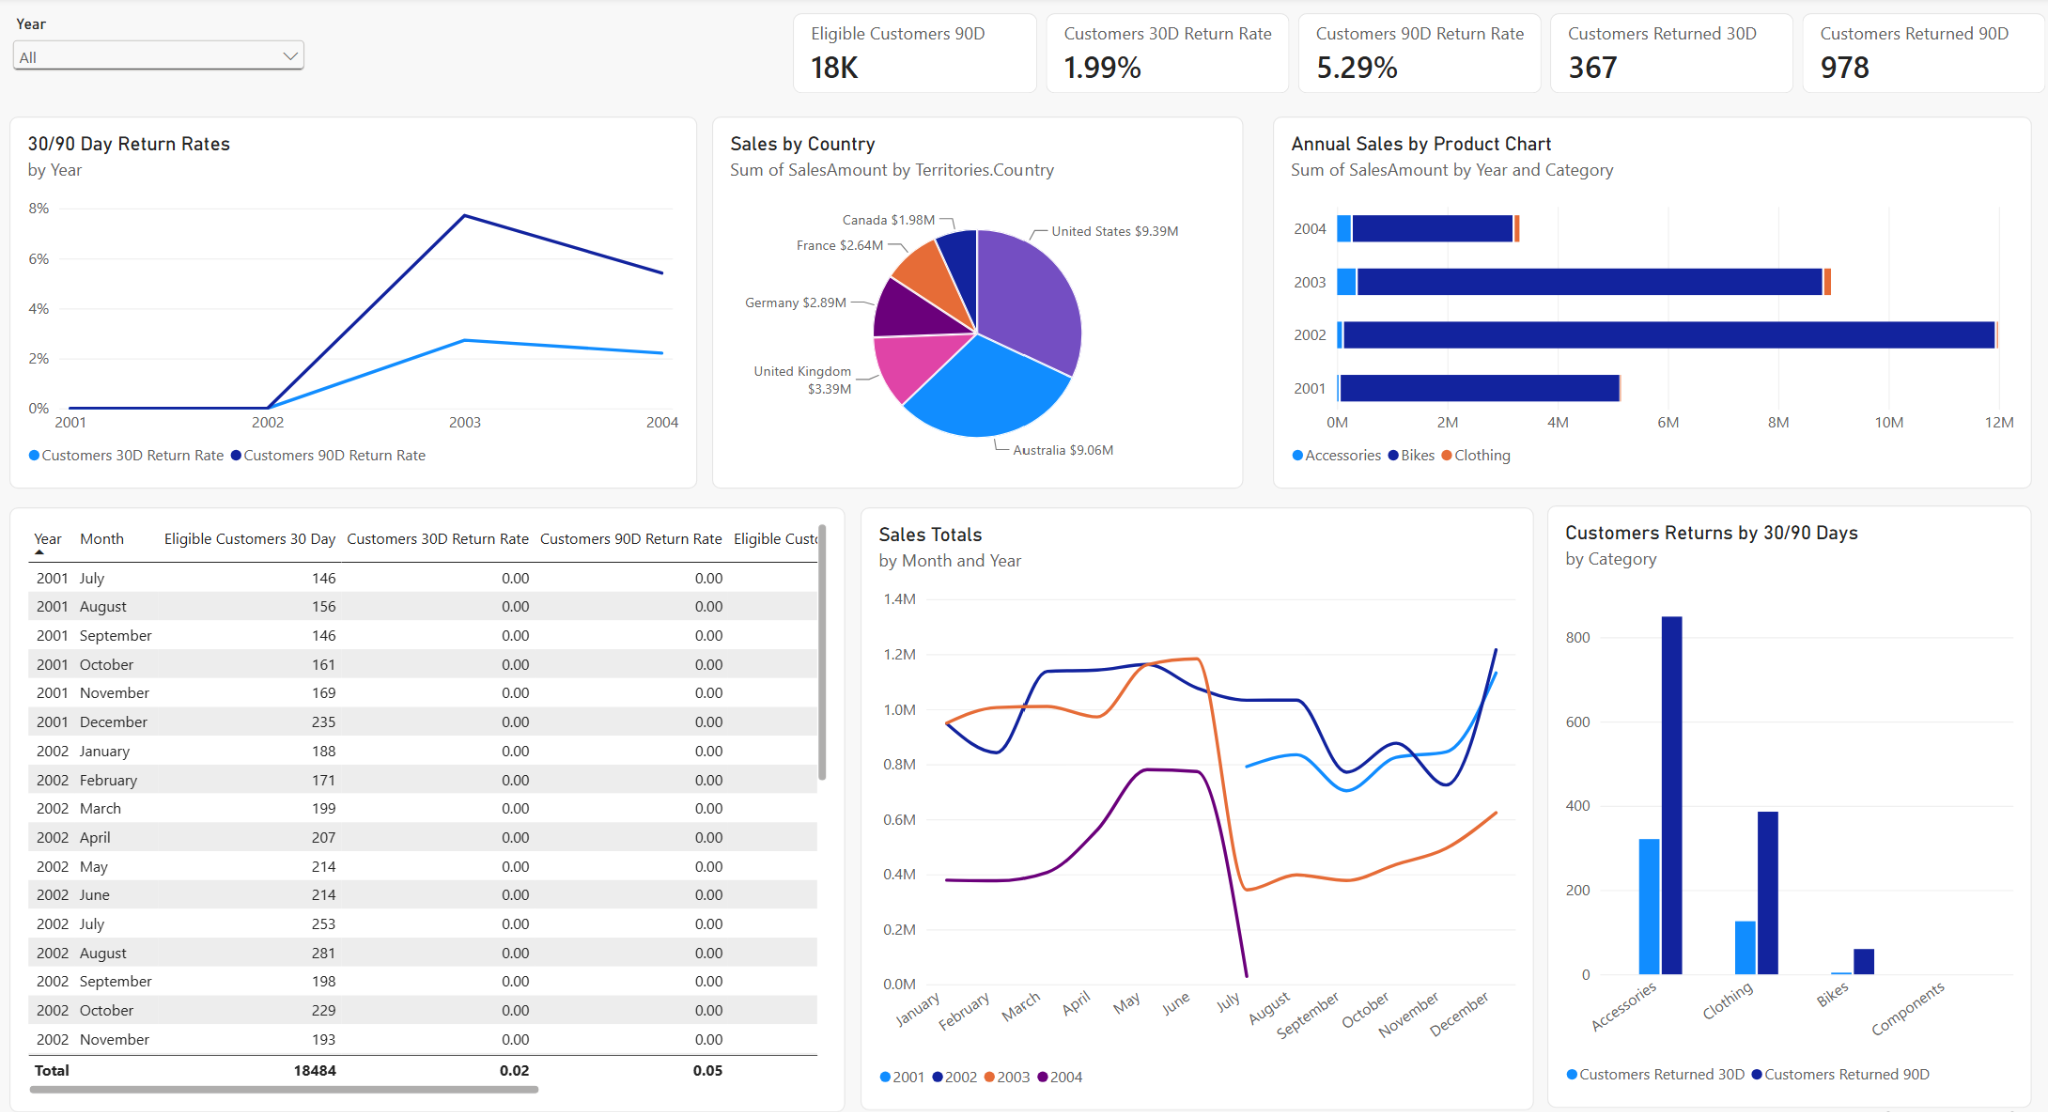

Layout of this report page (visuals, bound fields, positions):
{"tool":"powerbi","page":{"name":"Customer Return & Sales Trends","canvas":[1920,1080],"ordinal":0},"visuals":[{"type":"barChart","title":"Annual Sales by Product Chart","fields":{"Category":["DimCustomers.First Purchase Month.Variation.Date Hierarchy.Year"],"Series":["DimProductCategories.Category"],"Y":["Sum(FactSales.SalesAmount)"]},"box":[1192.6,112.6,710.6,348.3],"z":5000},{"type":"lineChart","title":"Sales Totals","fields":{"Category":["DimCustomers.First Purchase Month.Variation.Date Hierarchy.Month"],"Series":["DimCustomers.First Purchase Month.Variation.Date Hierarchy.Year"],"Y":["Sum(FactSales.SalesAmount)"]},"box":[807.4,478.4,629.7,564.6],"z":5375},{"type":"tableEx","title":"Return Table Cohort","fields":{"Values":["DimDate.Year Month","DimCustomers.Test Cohort Customers","DimCustomers.Customers Returned 90D Monthly","DimCustomers.Customers 90D Return Rate Monthly","DimCustomers.90D Eligible Customers","DimCustomers.3 Month Returning Customers","DimCustomers.3 Month Return Rate"]},"box":[10.5,474.2,782.7,566.4],"z":5750},{"type":"lineChart","title":"30/90 Day Return Rates","fields":{"Category":["DimCustomers.First Purchase Month.Variation.Date Hierarchy.Year","DimCustomers.First Purchase Month.Variation.Date Hierarchy.Month"],"Y":["DimCustomers.Customers Returned 30D Monthly","DimCustomers.Customers 90D Return Rate"]},"box":[10.6,112.6,643.8,348.3],"z":6500},{"type":"cardVisual","title":"Performance Metrics","fields":{"Data":["DimCustomers.Eligible Customers 90D","DimCustomers.Customers 30D Return Rate","DimCustomers.Customers 90D Return Rate","DimCustomers.Customers Returned 30D","DimCustomers.Customers Returned 90D"]},"box":[773.1,14.9,1149,74.7],"z":7000},{"type":"slicer","title":"Year Filter","fields":{"Values":["DimCustomers.First Purchase Month.Variation.Date Hierarchy.Year"]},"box":[490.1,10.1,284,82.9],"z":7500},{"type":"pieChart","title":"Sales by Country","fields":{"Category":["FactSales.Territories.Country"],"Y":["Sum(FactSales.SalesAmount)"]},"box":[669.2,112.8,496.3,348.4],"z":7501},{"type":"clusteredColumnChart","title":"Returning Customers","fields":{"Category":["DimProductCategories.Category"],"Y":["DimCustomers.Customers Returned 30D","DimCustomers.Customers Returned 90D"]},"box":[1449.4,476.7,453.7,564],"z":7502},{"type":"shape","box":[30.2,15.1,135.7,90.5],"z":7503},{"type":"textbox","box":[181,15.5,276.2,64.3],"z":7504}]}

Visuals, with their boxes on the page's 1920x1080 design canvas (x1, y1, x2, y2). These are canvas units, not pixel positions in the 2048x1112 screenshot, which may show the page scaled, cropped or inside an application window:
"Annual Sales by Product Chart" barChart: region(1193, 113, 1903, 461)
"Sales Totals" lineChart: region(807, 478, 1437, 1043)
"Return Table Cohort" tableEx: region(10, 474, 793, 1041)
"30/90 Day Return Rates" lineChart: region(11, 113, 654, 461)
"Performance Metrics" cardVisual: region(773, 15, 1922, 90)
"Year Filter" slicer: region(490, 10, 774, 93)
"Sales by Country" pieChart: region(669, 113, 1166, 461)
"Returning Customers" clusteredColumnChart: region(1449, 477, 1903, 1041)
shape: region(30, 15, 166, 106)
textbox: region(181, 16, 457, 80)
